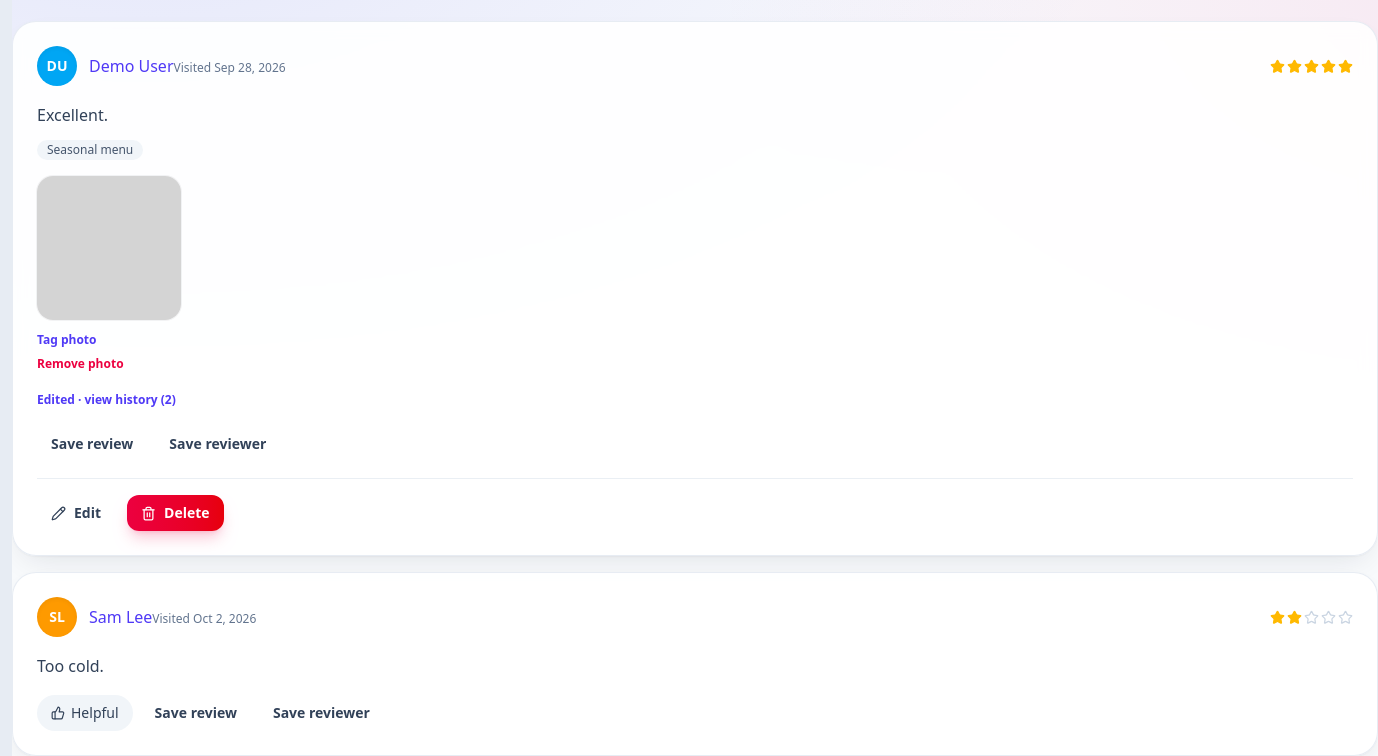
Test: ReviewSection › opens the edit form when a user edits their own review
(page scrolled)
Click the button "Edit": [76, 513] box [37,495,115,531]
(page scrolled)
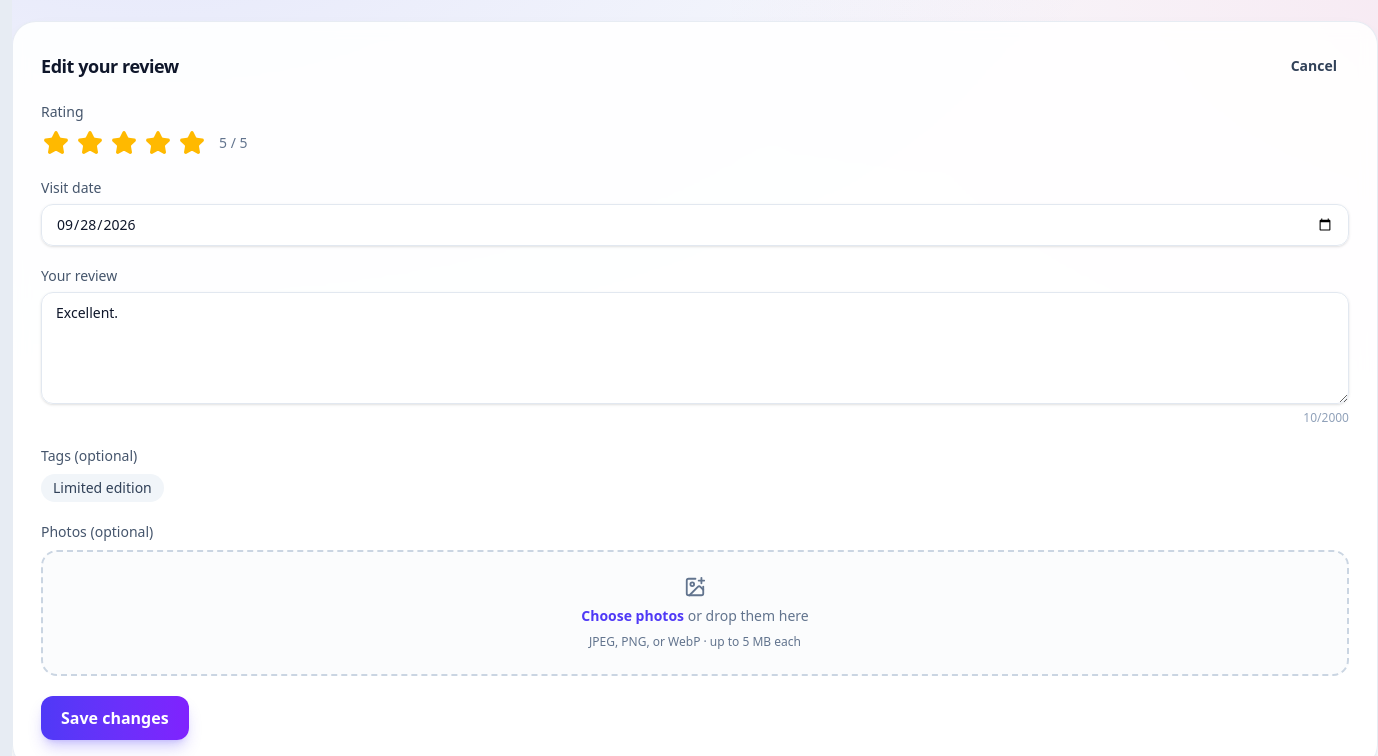
Expected: the heading "Edit your review" is shown, [41,52,179,80]
